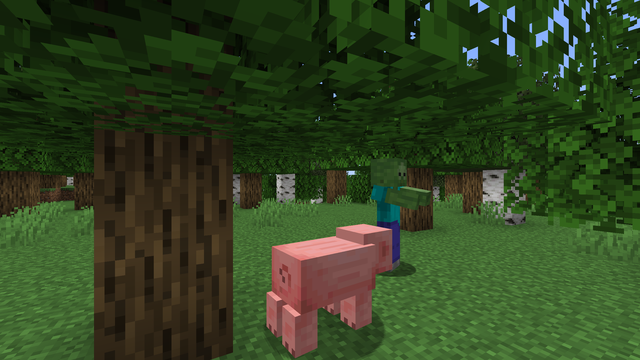cochons: (272, 232, 381, 352)
zombies: (365, 160, 412, 274)
